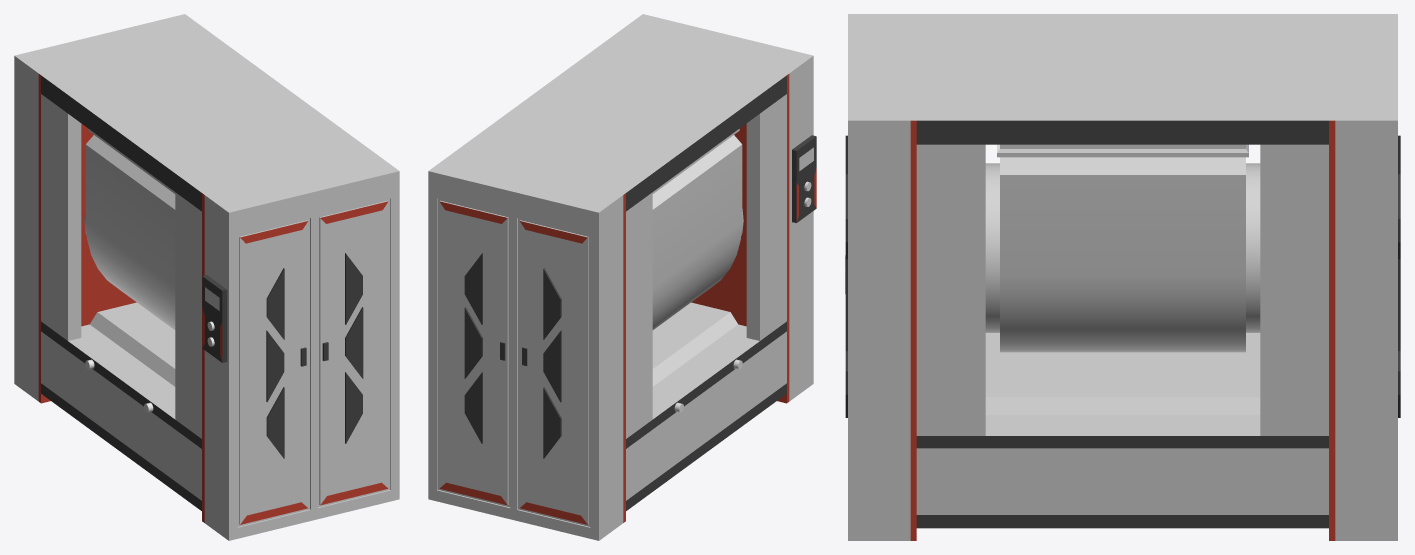
The model's file is 8e1fcf55-8fa2-4fc7-a917-ef6c8c836b5e.fbx.
The picture shows the model from 3 angles, left to right: view 1: azimuth 30°, elevation 25°; view 2: azimuth 150°, elevation 25°; view 3: azimuth 270°, elevation 25°; orthographic projection. The views are drawn at different scales.
Parts seen in each view (by area): view 1: makine1; view 2: makine1; view 3: makine1.
Part boxes in pixels (x1,y1,x2,y2): makine1: (14, 14, 399, 540); makine1: (428, 14, 816, 540); makine1: (845, 14, 1400, 540).
Size of the model in its own units: 112 by 197 by 236.
